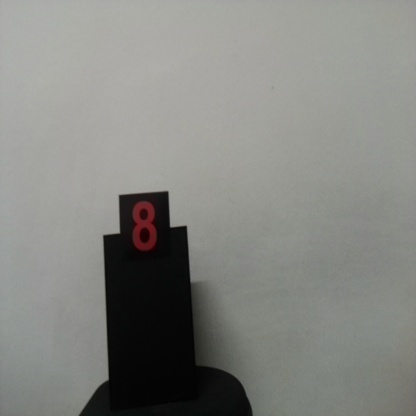id_8: (118, 195, 170, 268)
